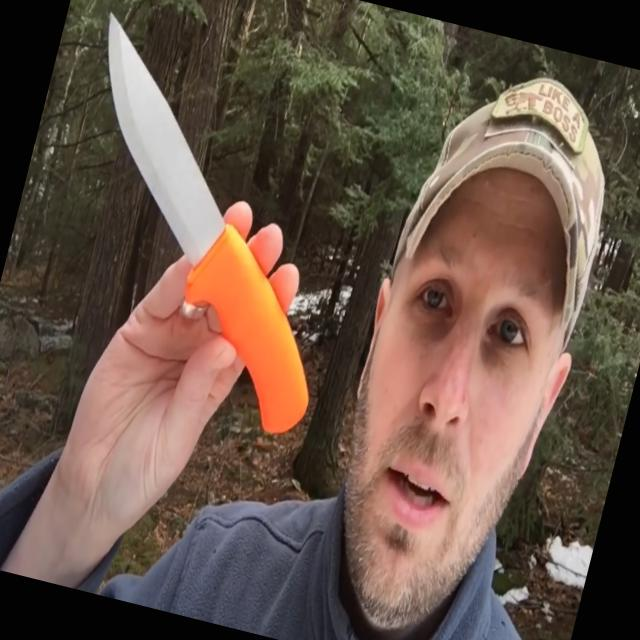knife: (30, 3, 310, 365)
